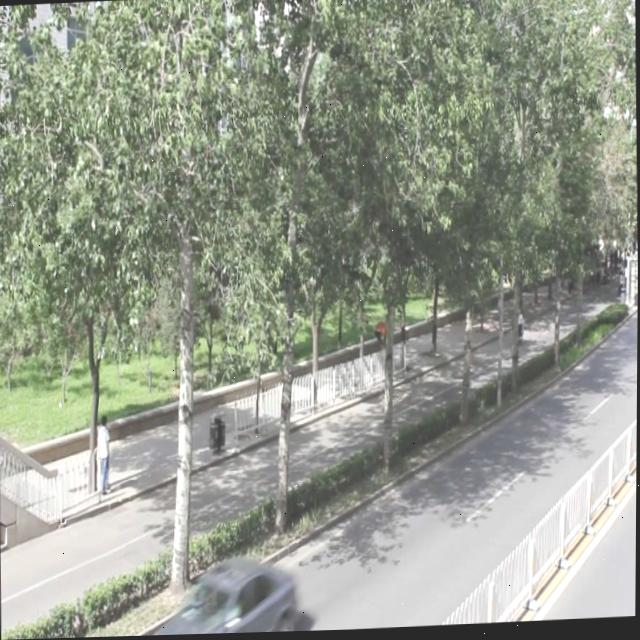car: (151, 555, 295, 636)
